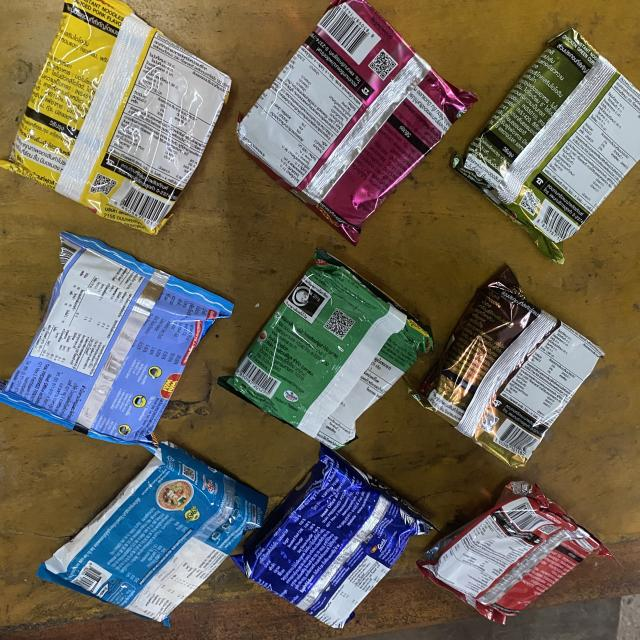plastik: (237, 0, 476, 244), (0, 0, 231, 234), (0, 232, 233, 449), (452, 29, 640, 264), (219, 249, 433, 448), (37, 442, 268, 625), (417, 266, 604, 466), (232, 446, 433, 628), (417, 481, 613, 624)
